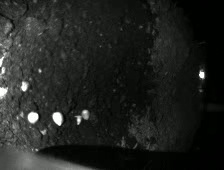corn: (23, 108, 41, 124), (50, 109, 65, 127), (70, 112, 84, 127), (79, 107, 91, 122), (18, 79, 30, 92)
